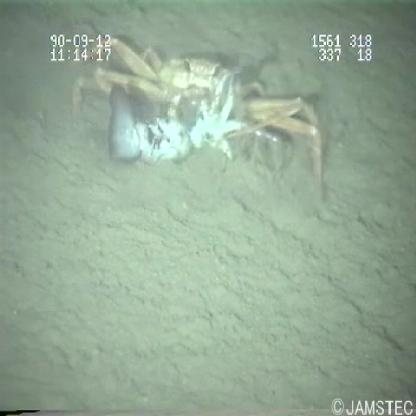Bio: (67, 31, 333, 202)
